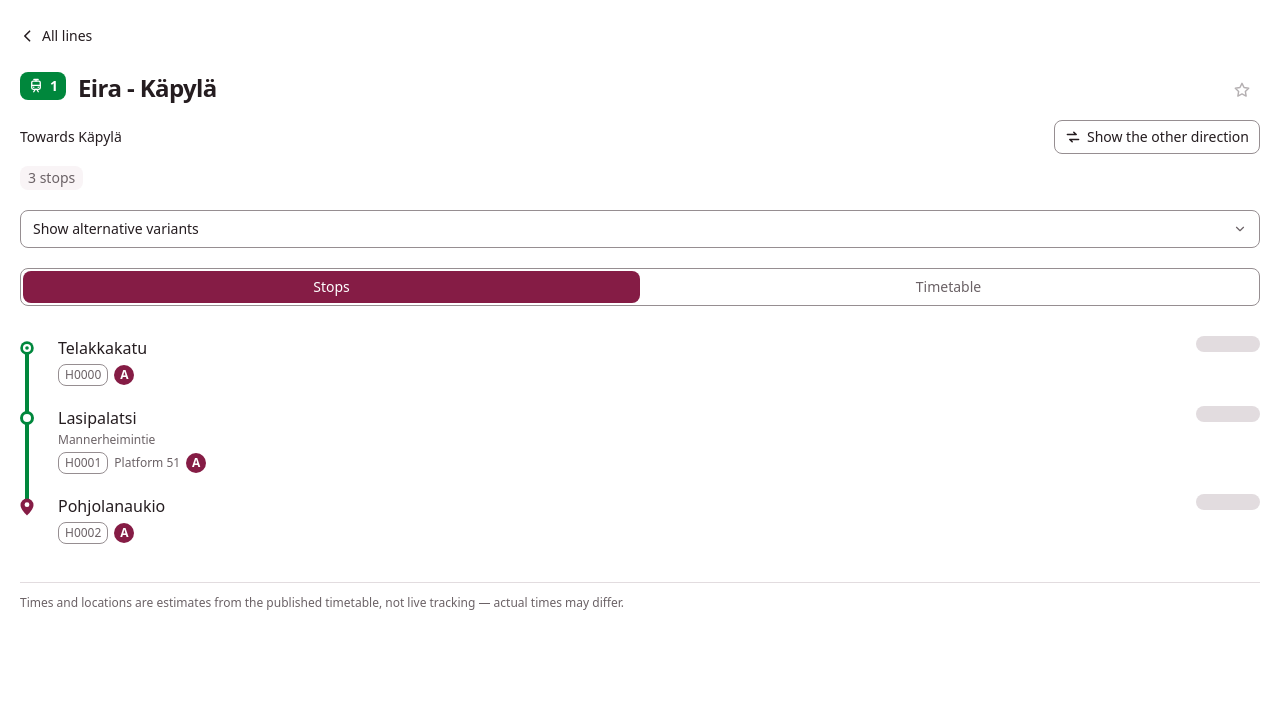
Scenario: RouteInspector › offers only the variant’s own service days, on the timetable
Expected: the heading "Eira - Käpylä" is shown, x1=78 y1=71 x2=217 y2=104
Click the radio button labelled "Timetable" at (948, 287), box x1=640 y1=271 x2=1257 y2=303
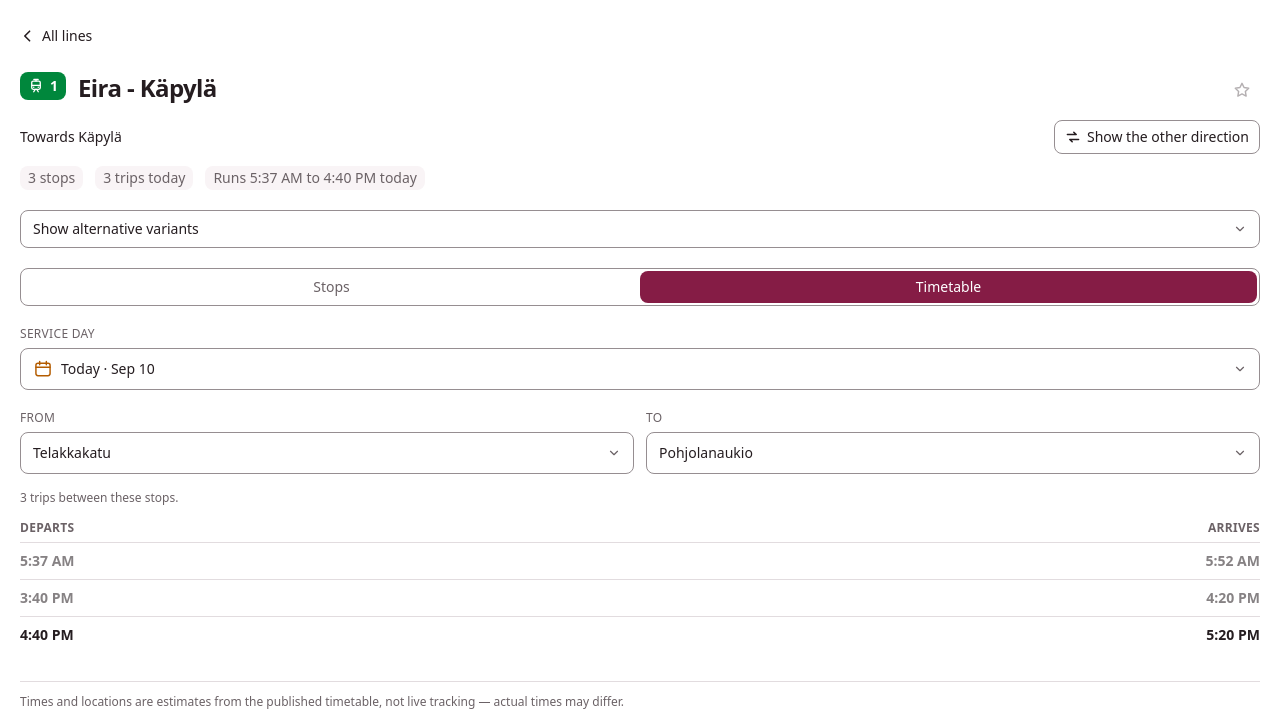
Click the button named "Service day" at (108, 368), box x1=20 y1=348 x2=1260 y2=390
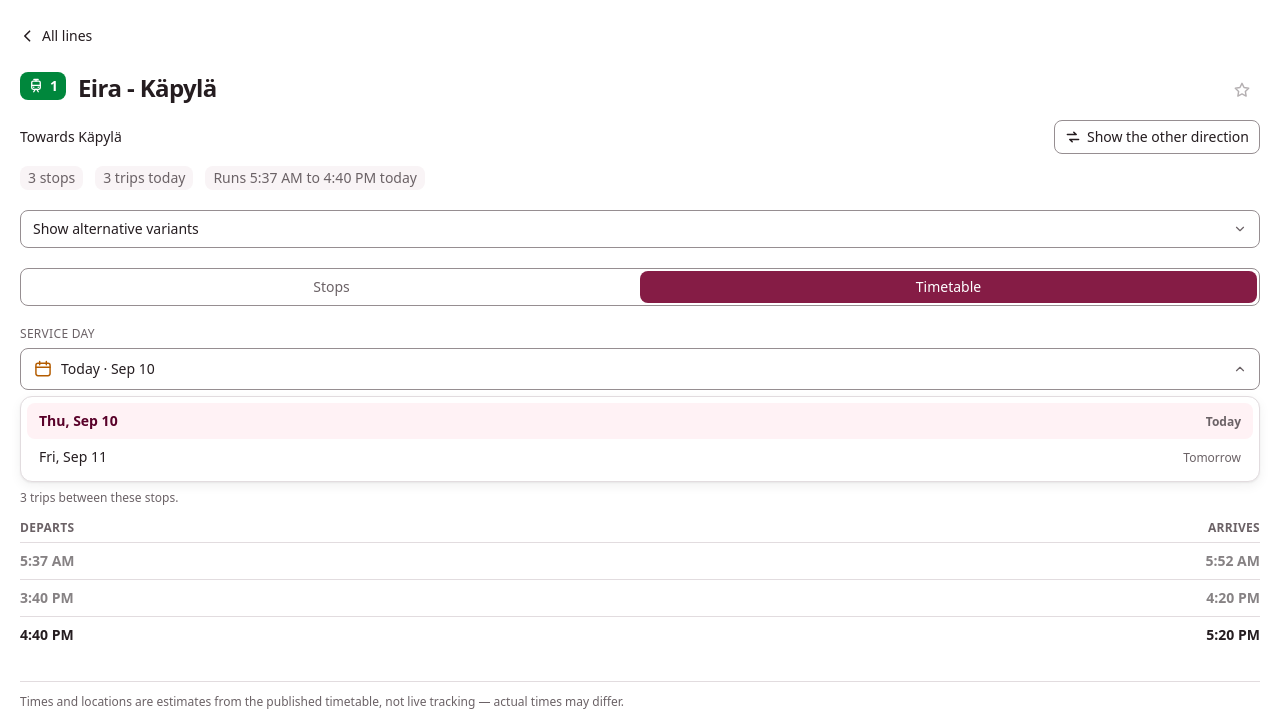
Expected: the number of options is 2, x1=27 y1=403 x2=1253 y2=439; x1=27 y1=439 x2=1253 y2=475
Expected: the option "Thu, Sep 10 Today" is shown, x1=27 y1=403 x2=1253 y2=439
